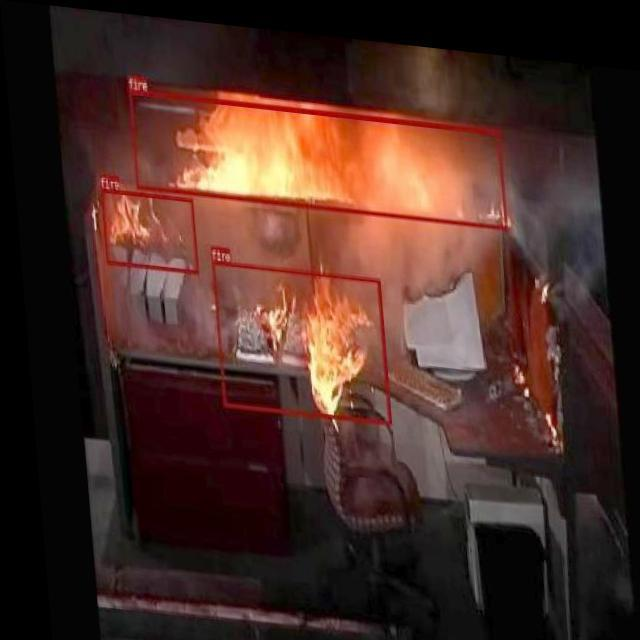Fire: (122, 75, 508, 218), (237, 263, 370, 420), (95, 178, 158, 250)
Smoke: (122, 13, 602, 314)
